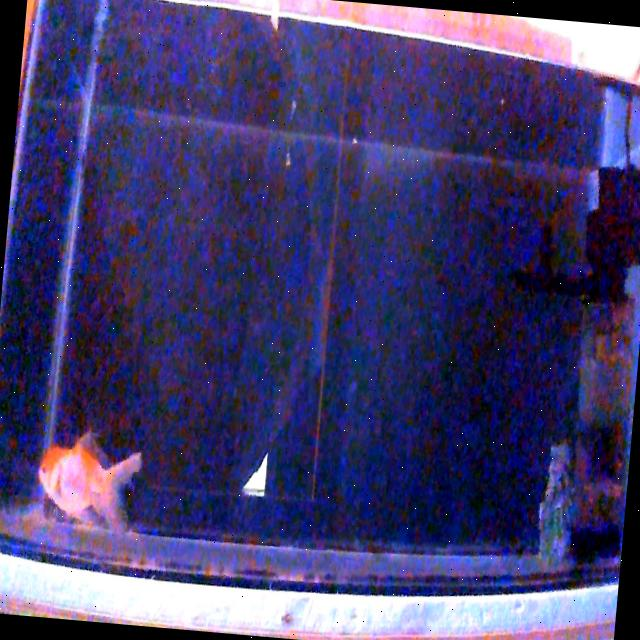fish: (34, 426, 144, 535)
